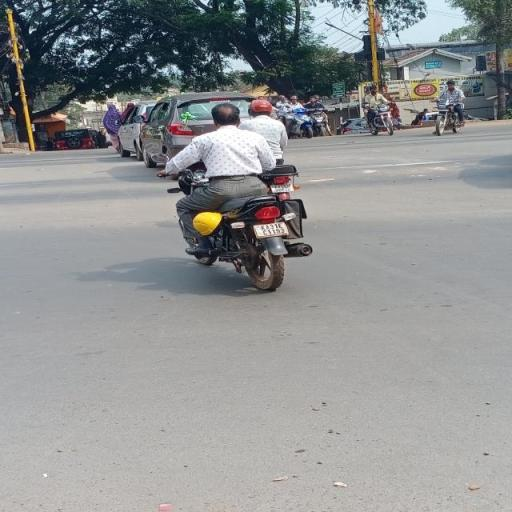bike: (154, 98, 313, 300)
numberplate: (253, 215, 295, 241)
withouthelmet: (212, 104, 242, 125)
